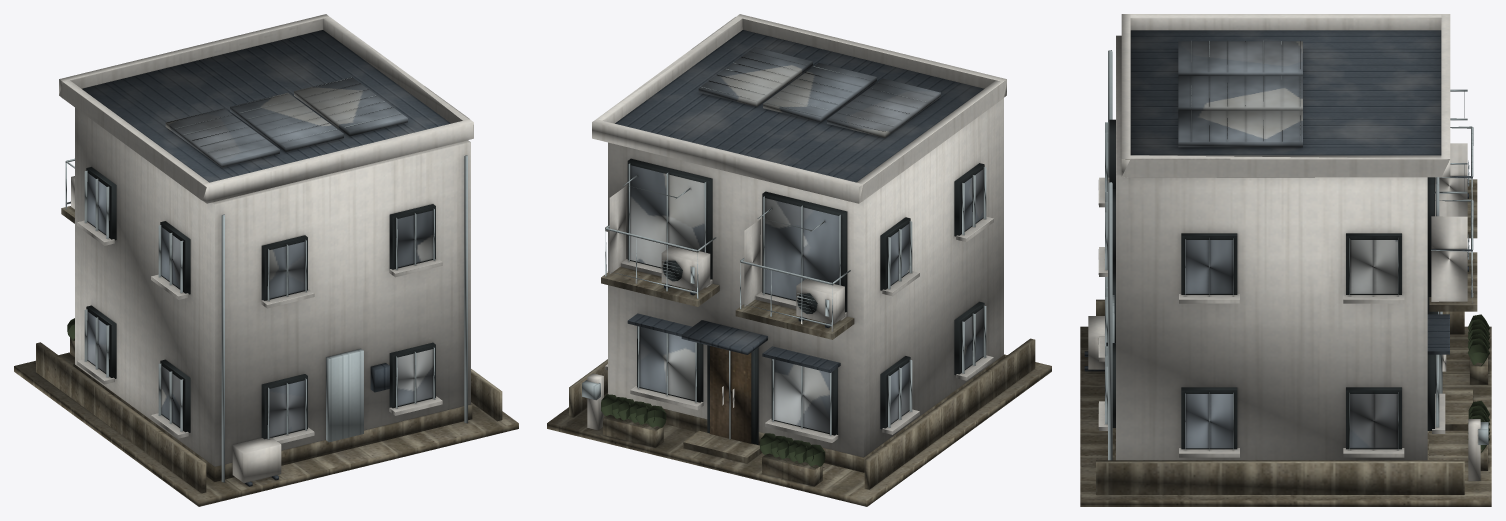
The model's file is residential_012.lod1.obj.
The picture shows the model from 3 angles, left to right: view 1: azimuth 30°, elevation 25°; view 2: azimuth 150°, elevation 25°; view 3: azimuth 270°, elevation 25°; orthographic projection. The views are drawn at different scales.
Parts seen in each view (by area): view 1: residential_012; view 2: residential_012; view 3: residential_012.
Boxes of the visible parts, x1,y1,x2,y2 form: residential_012: [14, 14, 518, 506]; residential_012: [547, 14, 1051, 506]; residential_012: [1080, 14, 1491, 506].
Size of the model in its own units: 7.25 by 6.49 by 7.25.
Materials: 1 (1 with a texture image).
